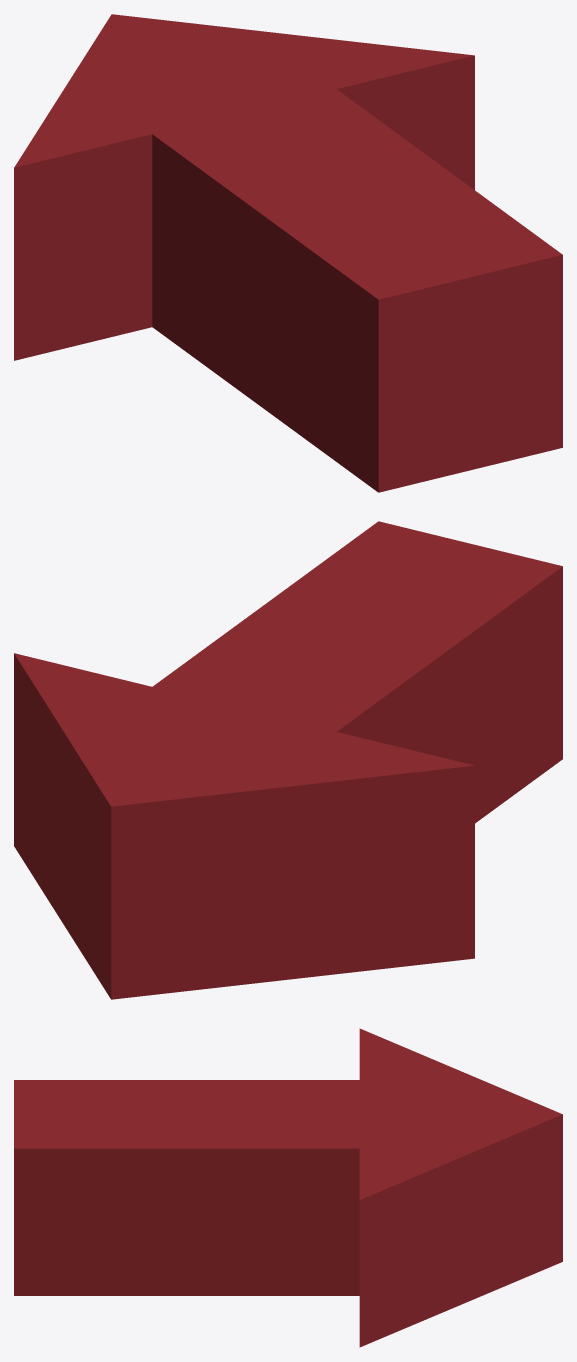
File: arrow.dae
3 views of the same model, one above another, from view 1: azimuth 30°, elevation 25°; view 2: azimuth 150°, elevation 25°; view 3: azimuth 270°, elevation 25° (orthographic). The views are drawn at different scales.
Visible parts, largest first — view 1: Box, Box1; view 2: Box1, Box; view 3: Box, Box1.
Boxes of the visible parts, box(x1,y1,x2,y2) form: Box: box(152, 89, 562, 492); Box1: box(14, 14, 474, 360); Box1: box(14, 653, 474, 999); Box: box(152, 521, 562, 823); Box: box(14, 1080, 359, 1295); Box1: box(359, 1028, 562, 1347).
Bounding box in the file's own units: 0.5 × 0.2 × 0.675.
